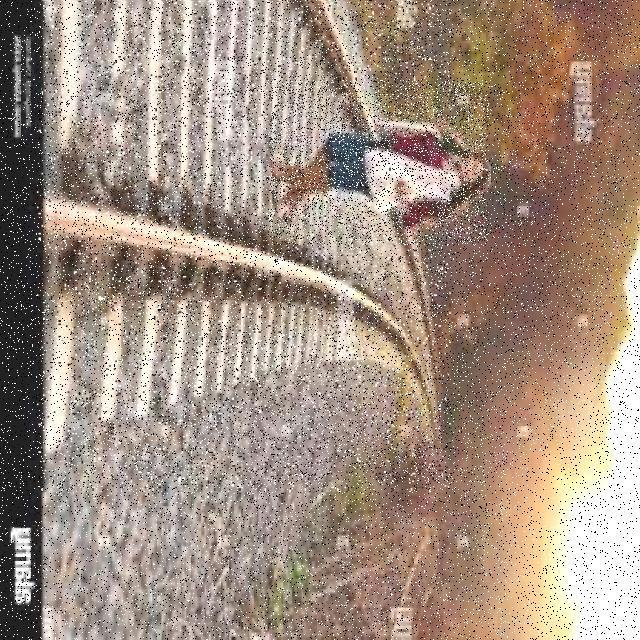danger: (270, 80, 488, 245)
rail: (36, 2, 448, 490)
